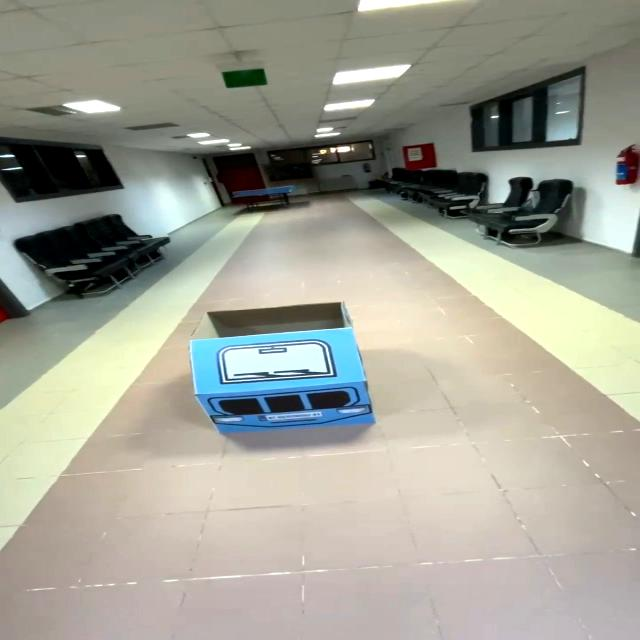blue_car: (167, 297, 403, 449)
